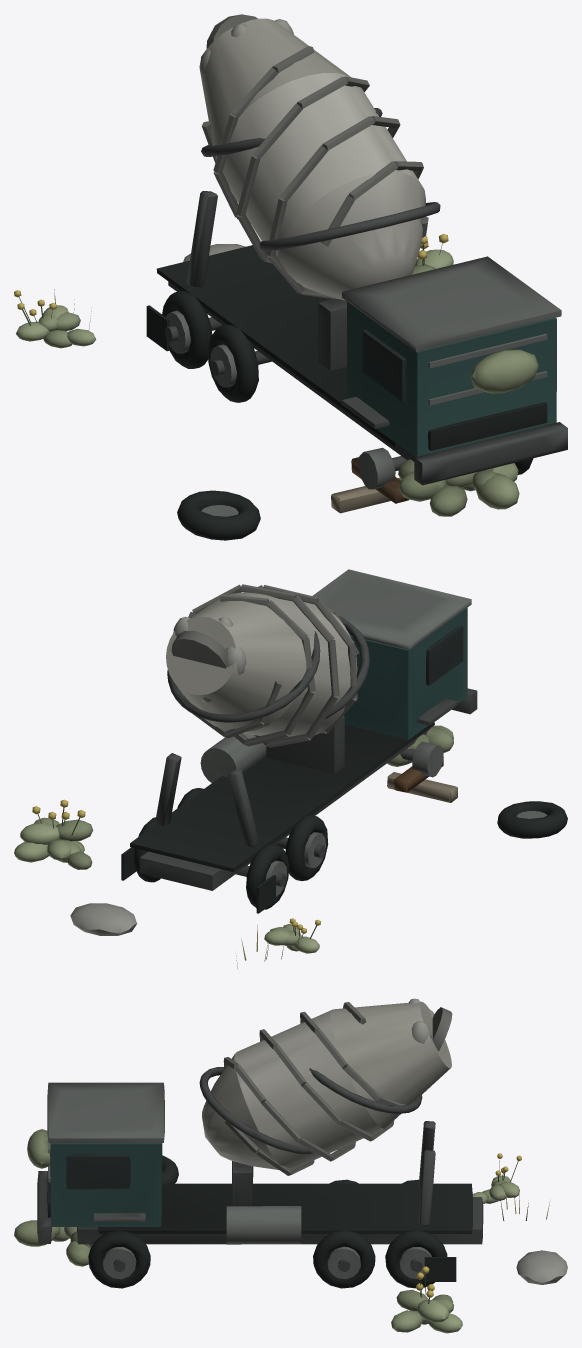
Rendered from mixer_wreck_b_lod1.glb.
The picture shows the model from 3 angles, top to bottom: view 1: azimuth 30°, elevation 25°; view 2: azimuth 150°, elevation 25°; view 3: azimuth 270°, elevation 25°; orthographic projection. The views are drawn at different scales.
Parts seen in each view (by area): view 1: Surface.001; view 2: Surface.001; view 3: Surface.001.
Part boxes in pixels (x1,y1,x2,y2): Surface.001: [14, 14, 567, 540]; Surface.001: [14, 569, 567, 968]; Surface.001: [14, 998, 567, 1333].
Size of the model in its own units: 8.58 by 5.9 by 11.39.
